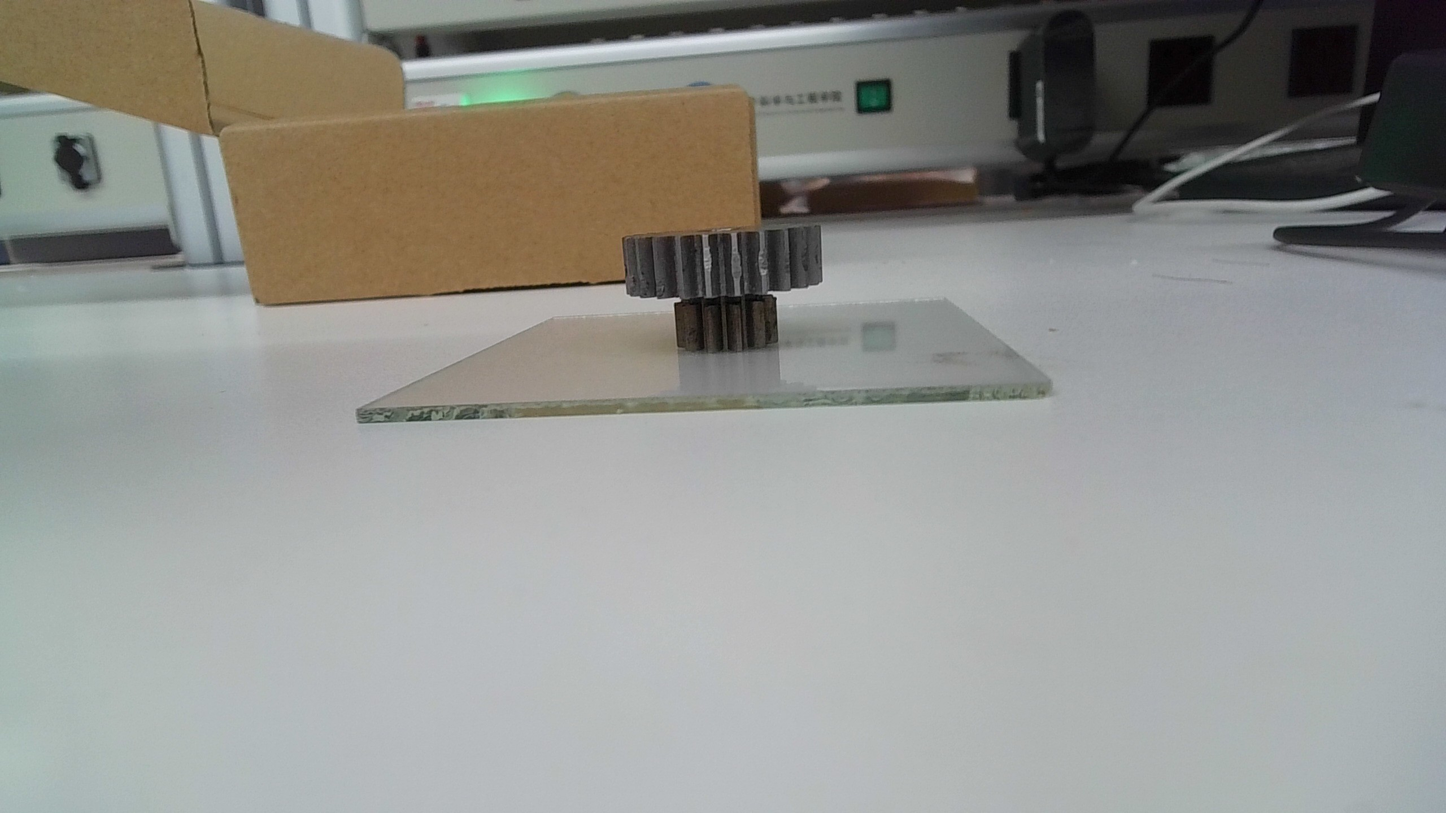gear: (624, 222, 826, 353)
